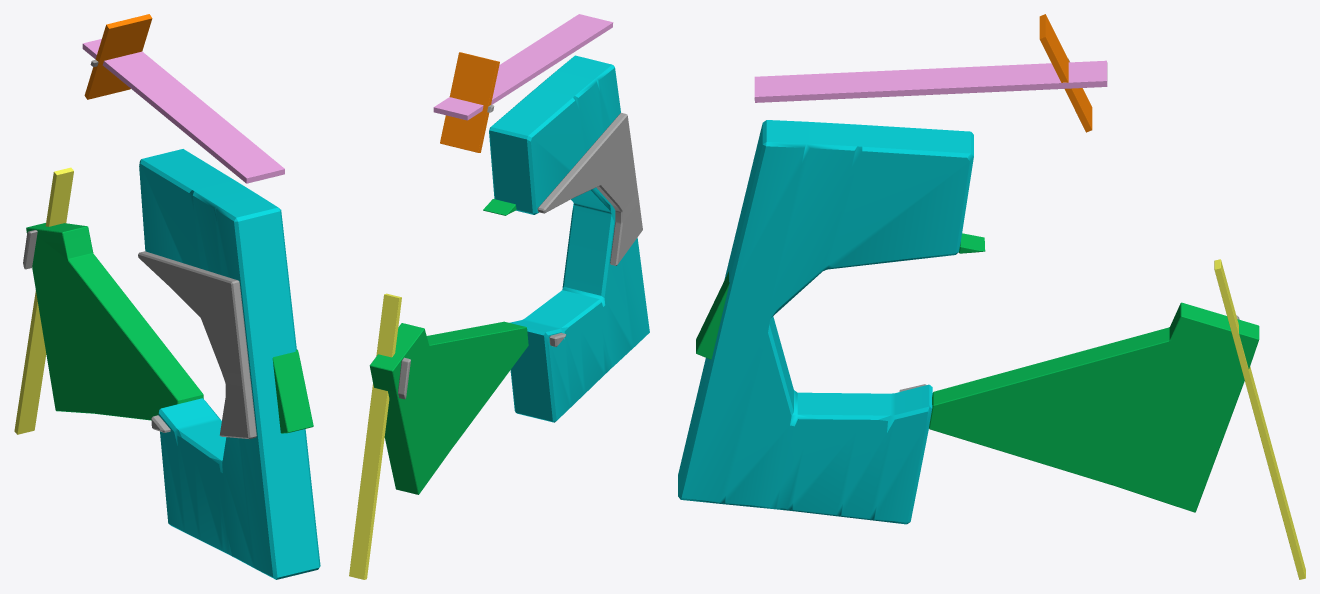
The model's file is Level_2_Colours_V3.fbx.
3 views of the same model, side by side, from view 1: azimuth 30°, elevation 25°; view 2: azimuth 150°, elevation 25°; view 3: azimuth 270°, elevation 25° (orthographic). The views are drawn at different scales.
Visible parts, largest first — view 1: BLUE, Green, polySurface3, Plane__11_, Plane__9_, Plane__10_, polySurface1; view 2: BLUE, Green, polySurface3, Plane__9_, Plane__11_, Plane__10_, polySurface1; view 3: BLUE, Green, Plane__11_, Plane__9_, Plane__10_.
Part boxes in pixels (left/top/right/bottom): BLUE: left=139, top=149, right=320, bottom=579; Green: left=26, top=223, right=313, bottom=433; polySurface3: left=138, top=251, right=256, bottom=439; Plane__11_: left=82, top=39, right=284, bottom=183; Plane__9_: left=14, top=167, right=73, bottom=434; Plane__10_: left=84, top=14, right=152, bottom=99; polySurface1: left=23, top=230, right=37, bottom=269; BLUE: left=489, top=55, right=649, bottom=422; Green: left=369, top=199, right=528, bottom=494; polySurface3: left=537, top=112, right=642, bottom=265; Plane__9_: left=349, top=293, right=401, bottom=579; Plane__11_: left=433, top=14, right=613, bottom=120; Plane__10_: left=440, top=52, right=499, bottom=152; polySurface1: left=398, top=357, right=410, bottom=399; BLUE: left=678, top=120, right=973, bottom=524; Green: left=696, top=233, right=1259, bottom=512; Plane__11_: left=754, top=60, right=1107, bottom=102; Plane__9_: left=1214, top=259, right=1305, bottom=579; Plane__10_: left=1039, top=14, right=1092, bottom=132.
Bounding box in the file's own units: 586 × 4916 × 5163.
